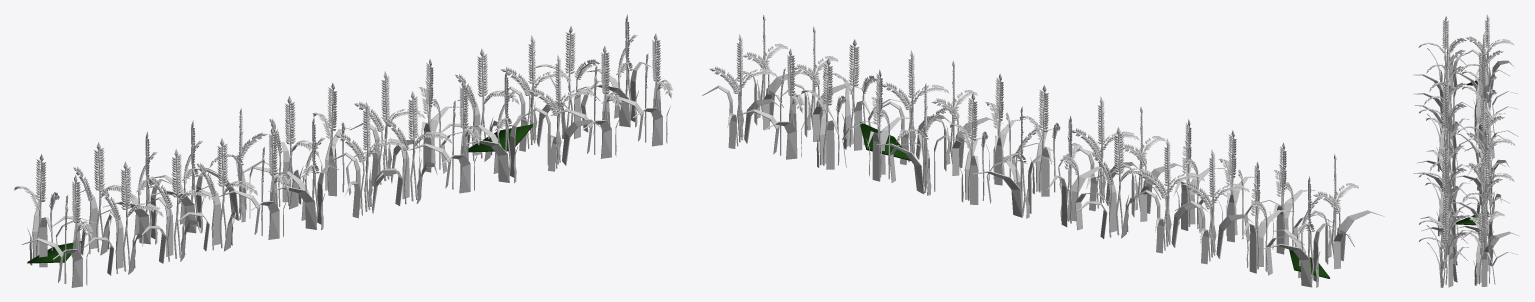
Rendered from rumput2.obj.
3 views of the same model, side by side, from view 1: azimuth 30°, elevation 25°; view 2: azimuth 150°, elevation 25°; view 3: azimuth 270°, elevation 25° (orthographic). The views are drawn at different scales.
Visible parts, largest first — view 1: wheat1.008, wheat1.016, wheat1.012, wheat1.020, wheat1.019, wheat1.007, wheat1.018, wheat1.006, wheat1.004, wheat1.013, wheat1.011, wheat1.024 (+16 smaller); view 2: wheat1.017, wheat1.001, wheat1.021, wheat1.022, wheat1.006, wheat1.007, wheat1.010, wheat1.018, wheat1.024, wheat1.013, wheat1.005, wheat1.011 (+15 smaller); view 3: wheat1.001, wheat1, wheat1.014, wheat1.024, wheat1.003, wheat1.025, wheat1.002, wheat1.009, wheat1.004, wheat1.011, wheat1.021, wheat1.007 (+15 smaller).
Boxes of the visible parts, x1,y1,x2,y2 form: wheat1.008: (330, 101, 406, 218); wheat1.016: (142, 149, 215, 263); wheat1.012: (375, 91, 452, 205); wheat1.020: (175, 138, 257, 251); wheat1.019: (82, 161, 163, 275); wheat1.007: (521, 54, 602, 171); wheat1.018: (51, 142, 134, 255); wheat1.006: (495, 35, 572, 151); wheat1.004: (461, 70, 530, 183); wheat1.013: (349, 71, 425, 186); wheat1.011: (268, 117, 338, 230); wheat1.024: (21, 175, 92, 287); wheat1.017: (1175, 149, 1253, 264); wheat1.001: (702, 34, 779, 148); wheat1.021: (1130, 138, 1209, 253); wheat1.022: (1076, 127, 1154, 238); wheat1.006: (801, 58, 881, 169); wheat1.007: (823, 39, 901, 150); wheat1.010: (1046, 116, 1113, 230); wheat1.018: (1242, 162, 1304, 275); wheat1.024: (1301, 154, 1384, 269); wheat1.013: (950, 93, 1027, 204); wheat1.005: (866, 69, 928, 182); wheat1.011: (1067, 96, 1140, 211); wheat1.001: (1462, 209, 1518, 286); wheat1: (1419, 210, 1469, 287); wheat1.014: (1460, 145, 1514, 218); wheat1.024: (1418, 16, 1469, 90); wheat1.003: (1419, 193, 1469, 270); wheat1.025: (1462, 14, 1514, 93); wheat1.002: (1461, 191, 1519, 271); wheat1.009: (1464, 112, 1515, 190); wheat1.004: (1425, 160, 1481, 236); wheat1.011: (1426, 95, 1482, 172); wheat1.021: (1462, 64, 1518, 139); wheat1.007: (1420, 178, 1464, 254).
Size of the model in its own units: 4.68 by 0.7602 by 0.9811.
